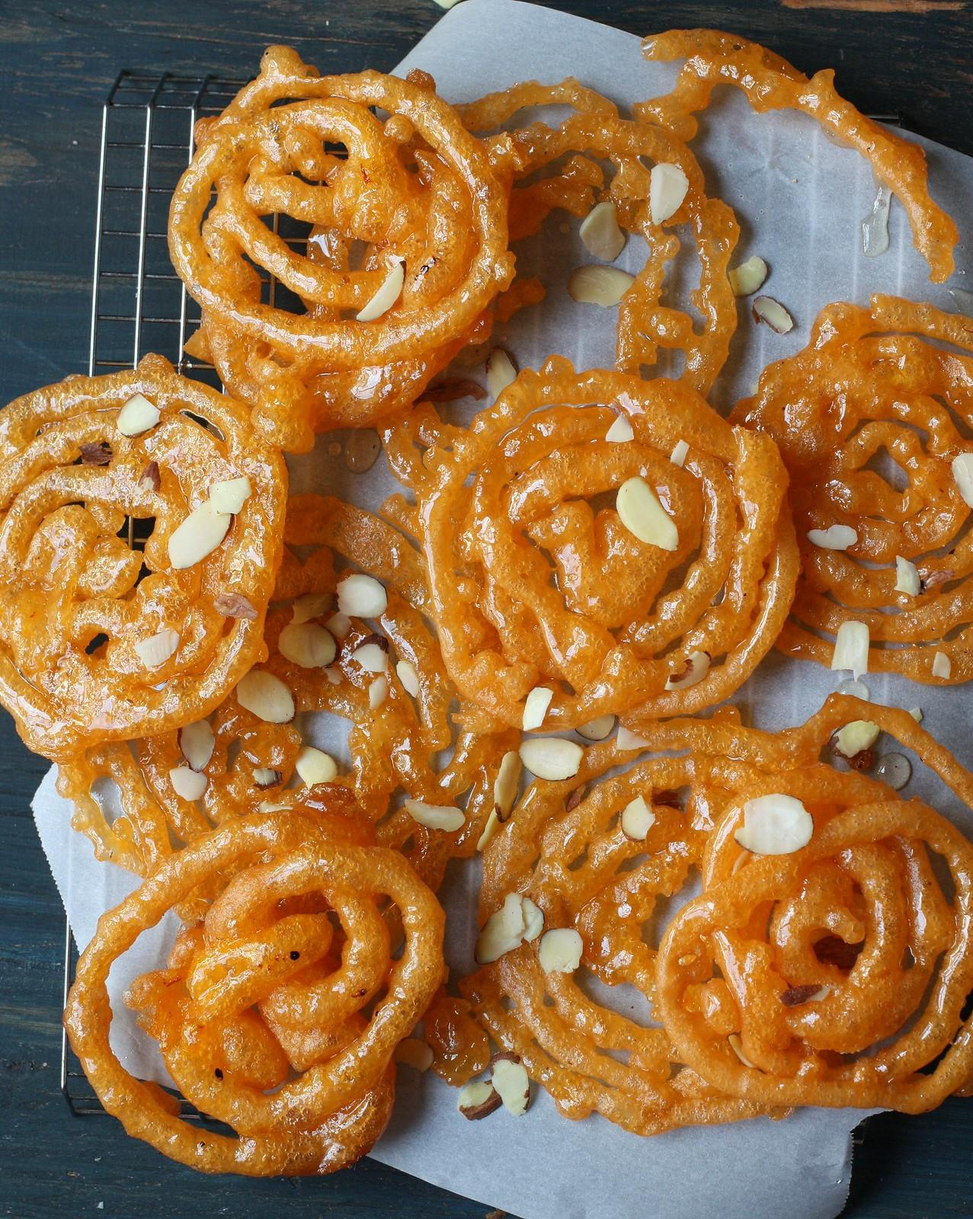Jalebi: (0, 29, 969, 1177)
